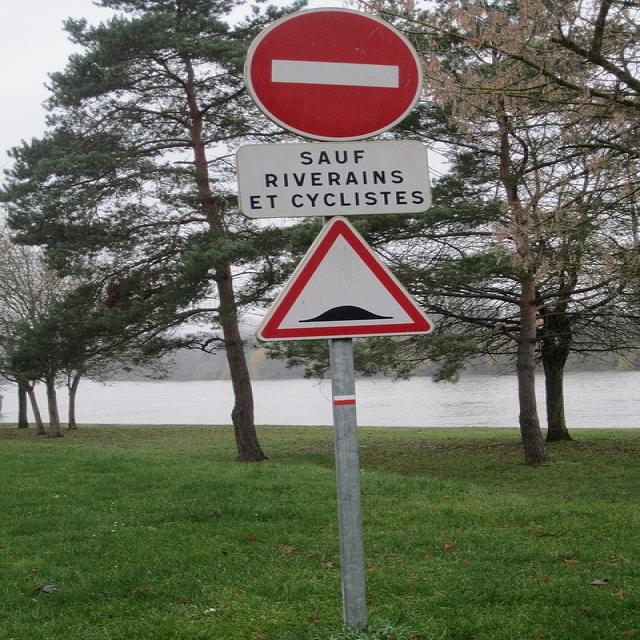pole: (314, 214, 370, 623)
